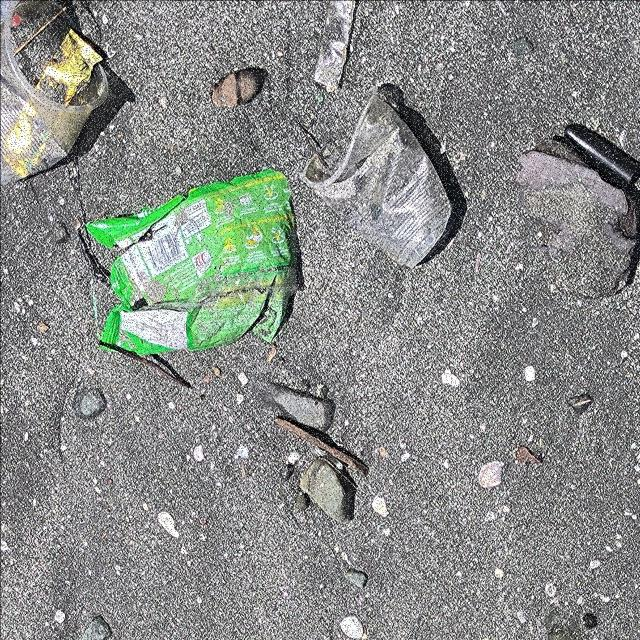plastic_waste: (88, 170, 299, 353), (303, 88, 453, 269), (1, 1, 113, 187)
